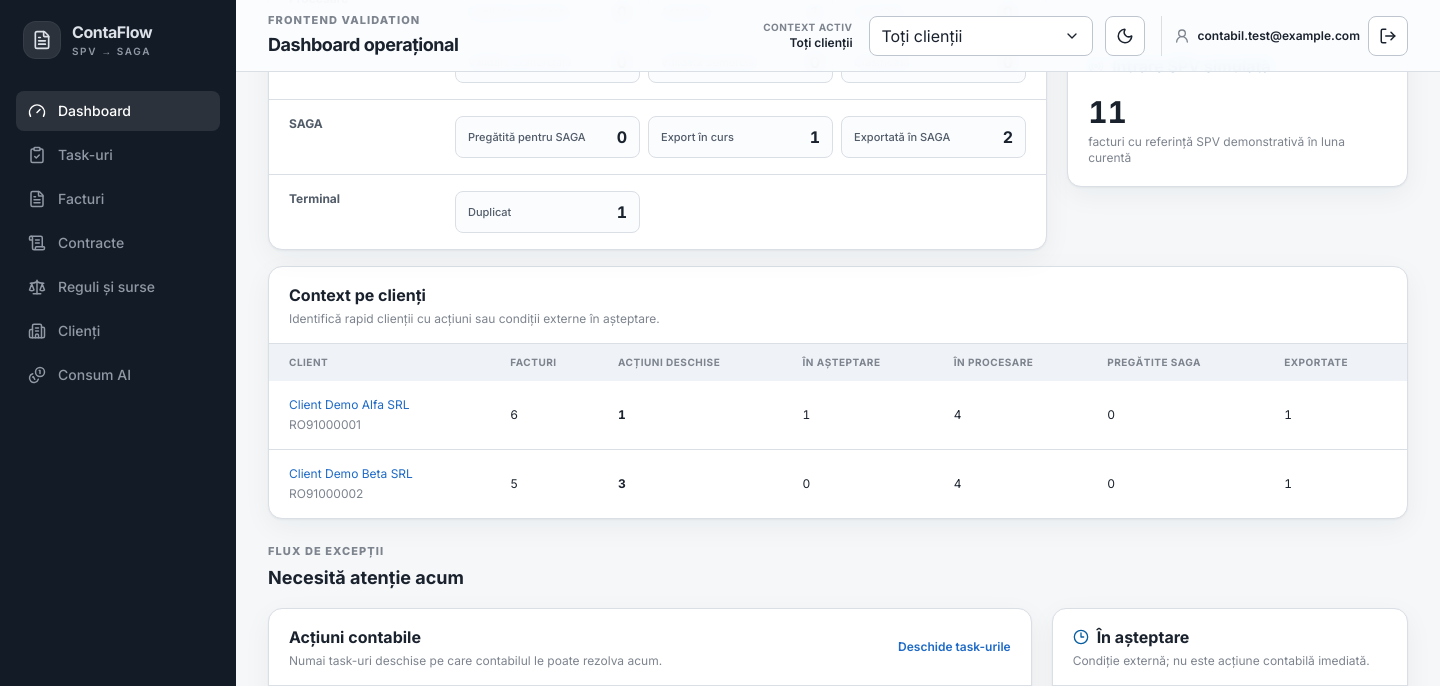
Test: Complete Dashboard › reacts to client scope and allows selecting a client from the overview
(page scrolled)
Click the button "Client Demo Alfa SRL" at (349, 405), box [289,397,410,413]
(page scrolled)
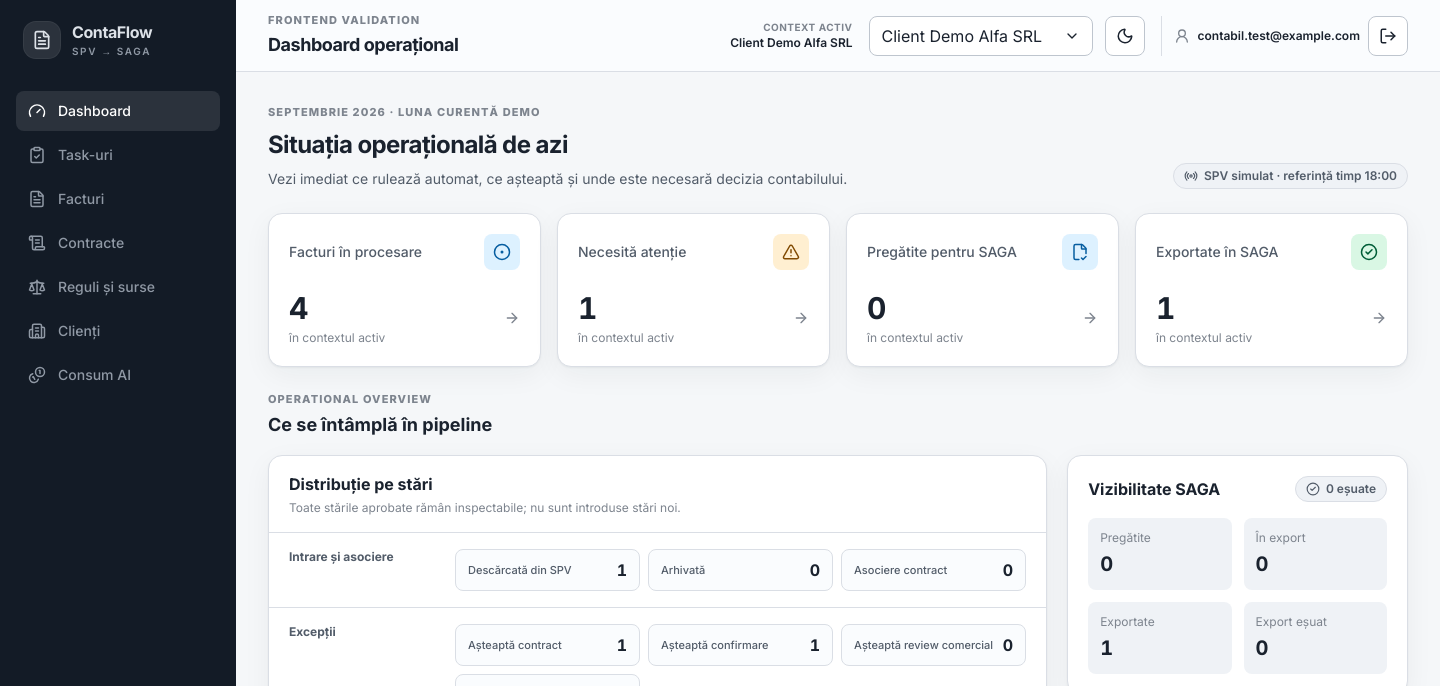
Check: the text with test id "active-scope" reads "Client Demo Alfa SRL", box [730,35,853,50]
Check: the 1st text "1" is shown, box [578,290,597,326]
Check: the text "4" is shown, box [289,290,308,326]
